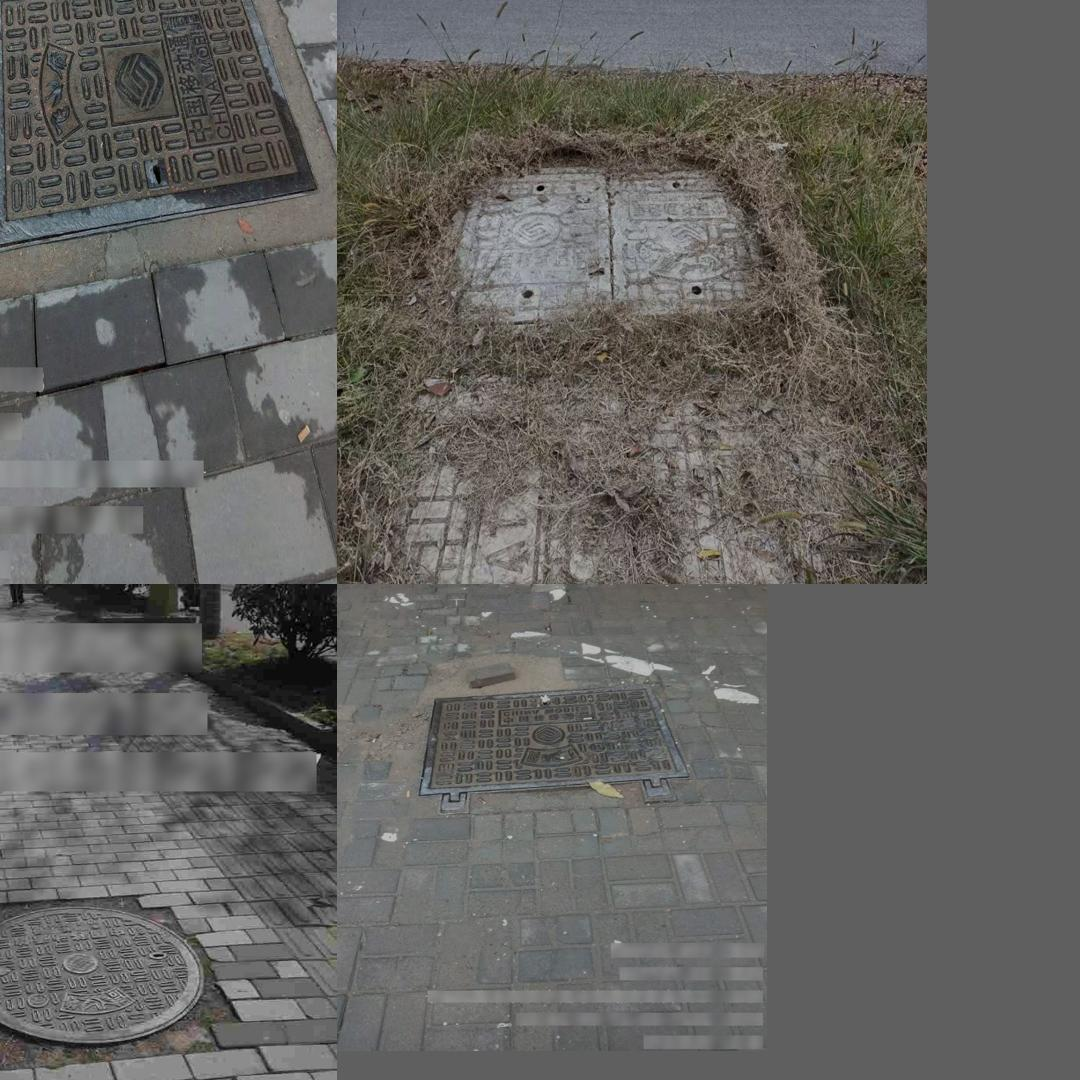good: (0, 0, 320, 253), (448, 166, 762, 318), (0, 905, 205, 1045), (424, 681, 665, 799)
